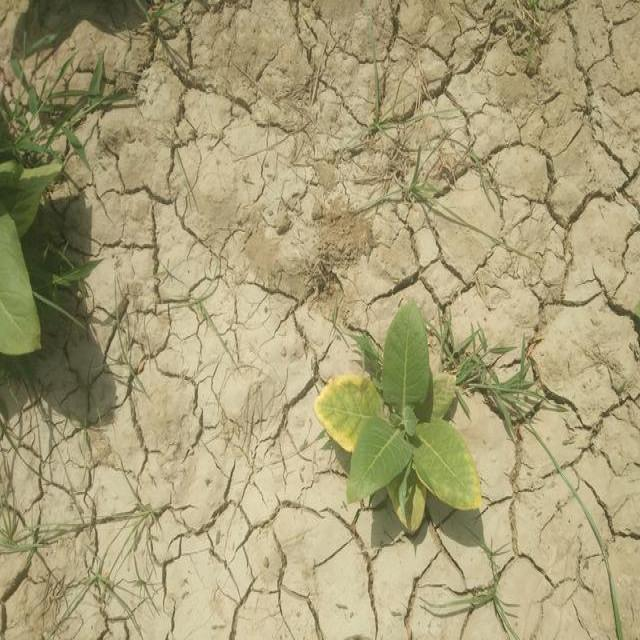crop: (306, 305, 488, 535)
